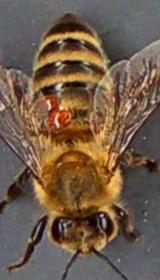varroa_mite: (39, 103, 74, 136), (32, 92, 62, 118)
